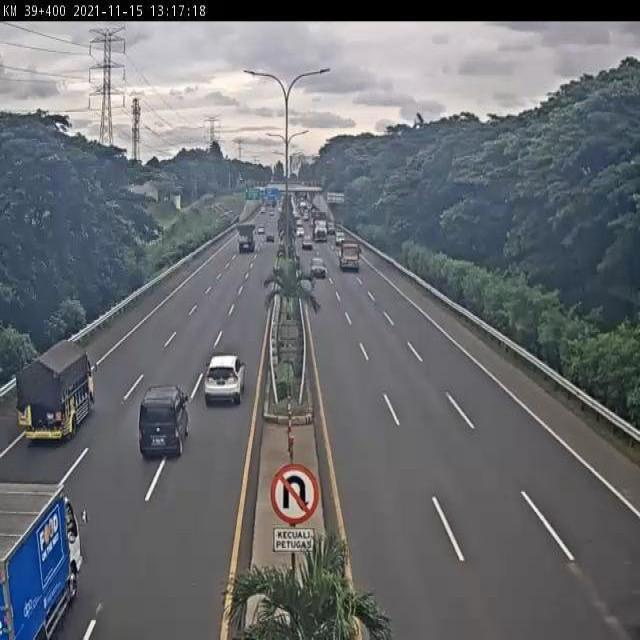car: (137, 380, 192, 459), (202, 351, 248, 405), (308, 255, 328, 283)
truck: (16, 341, 95, 447), (337, 240, 361, 272)
